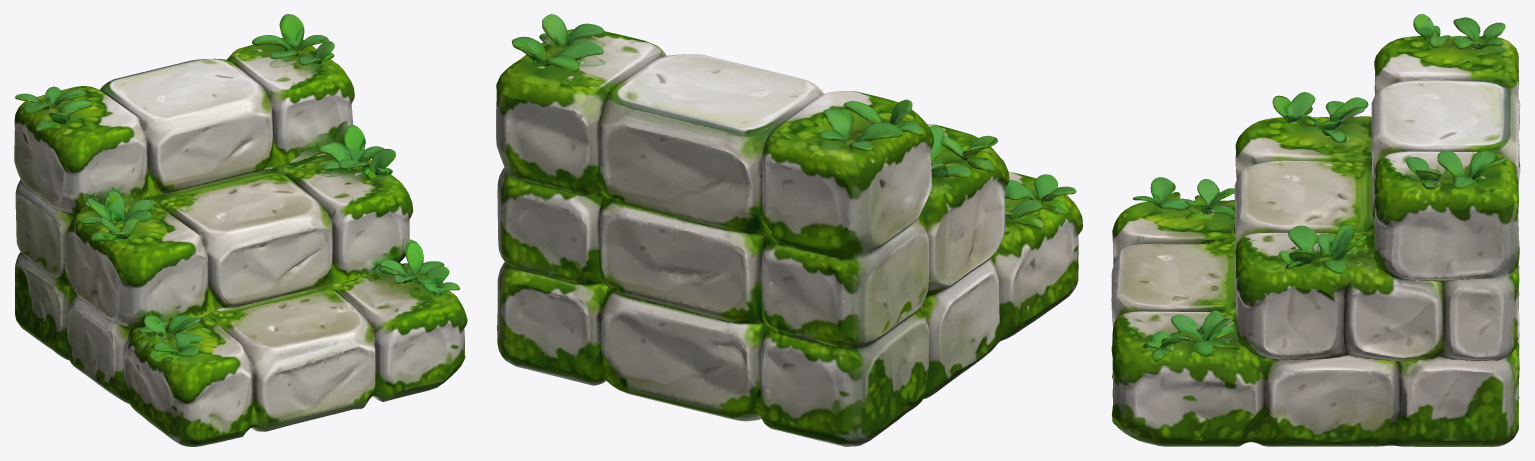
The model's file is ter_stairs.glb.
The picture shows the model from 3 angles, left to right: view 1: azimuth 30°, elevation 25°; view 2: azimuth 150°, elevation 25°; view 3: azimuth 270°, elevation 25°; orthographic projection. The views are drawn at different scales.
Parts seen in each view (by area): view 1: geometry_0; view 2: geometry_0; view 3: geometry_0.
Part boxes in pixels (x1=…): geometry_0: x1=14, y1=14, x2=467, y2=446; geometry_0: x1=496, y1=14, x2=1082, y2=446; geometry_0: x1=1111, y1=14, x2=1520, y2=446.
Size of the model in its own units: 0.9 by 0.7008 by 0.9012.
1 material, 1 textured.
